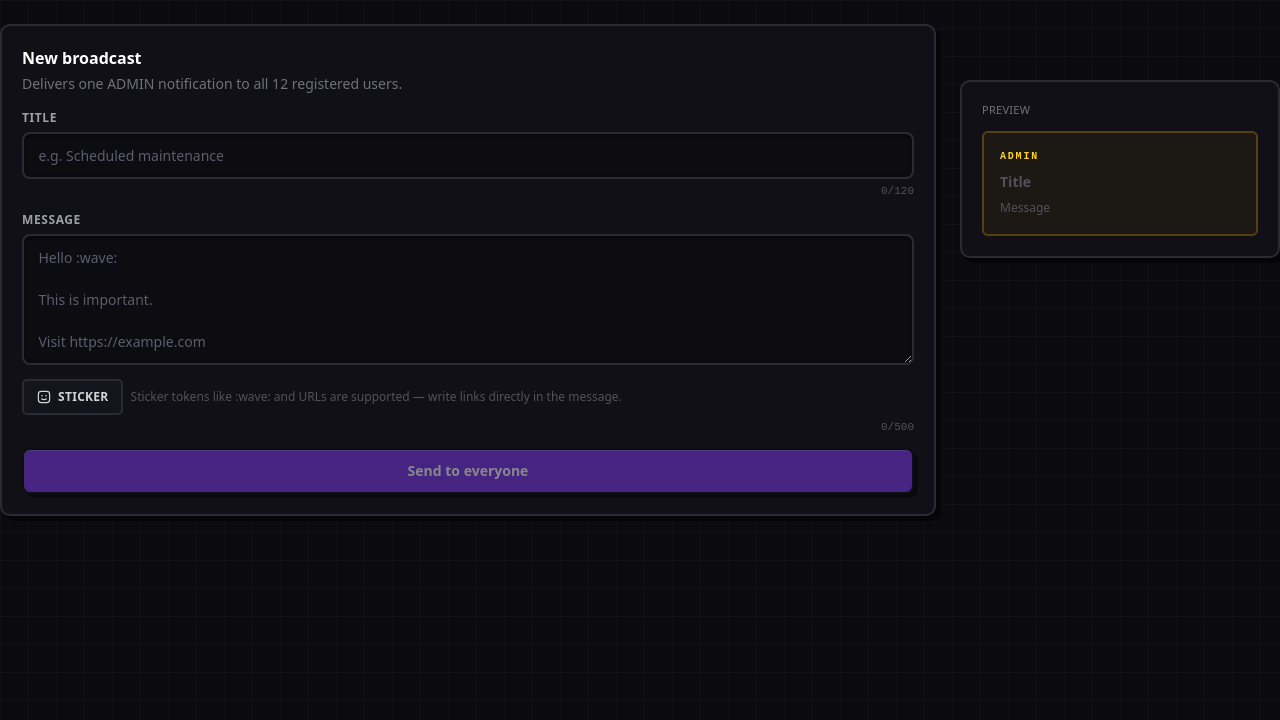
Scenario: Admin Broadcast — Sticker picker open/close › 3. closes on outside click
Click the button "Sticker" at (72, 397), box [22, 379, 123, 415]
(page scrolled)
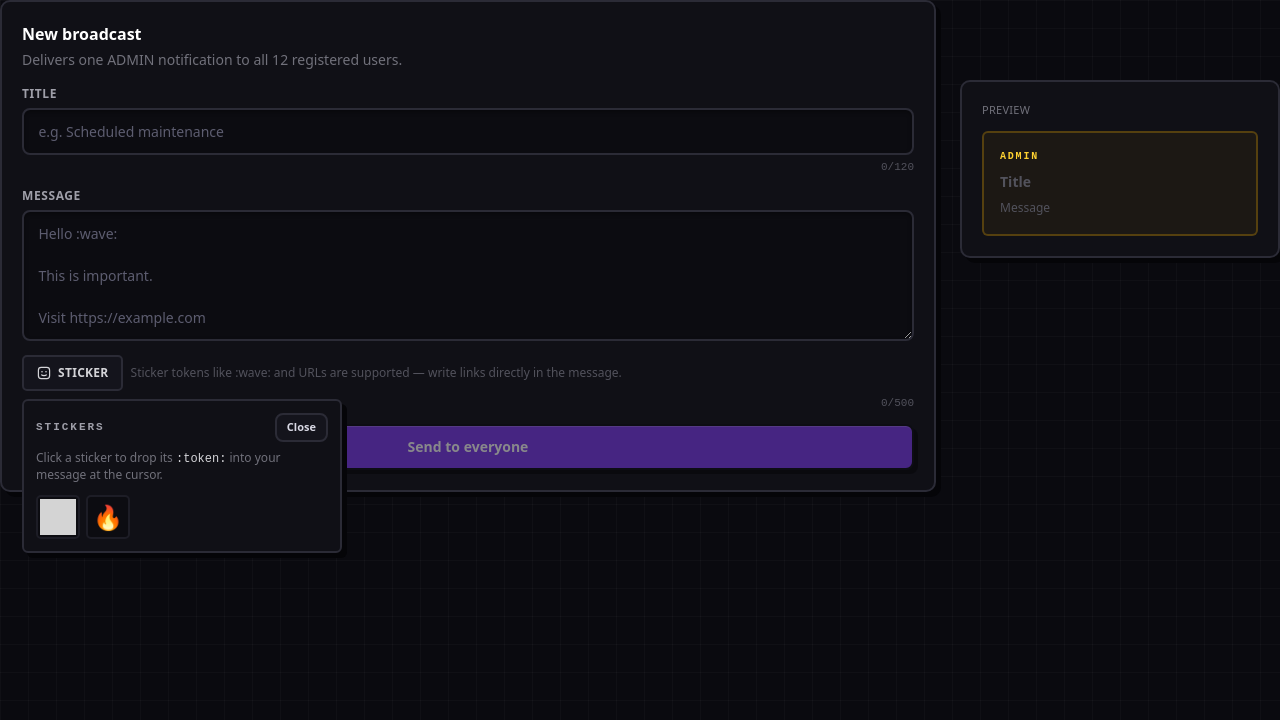
Expected: the dialog with id "broadcast-sticker-picker" is shown, [22, 399, 342, 553]
Press the mouse on the element that starts with "New broadcast" at (640, 360), box [0, 0, 1279, 719]
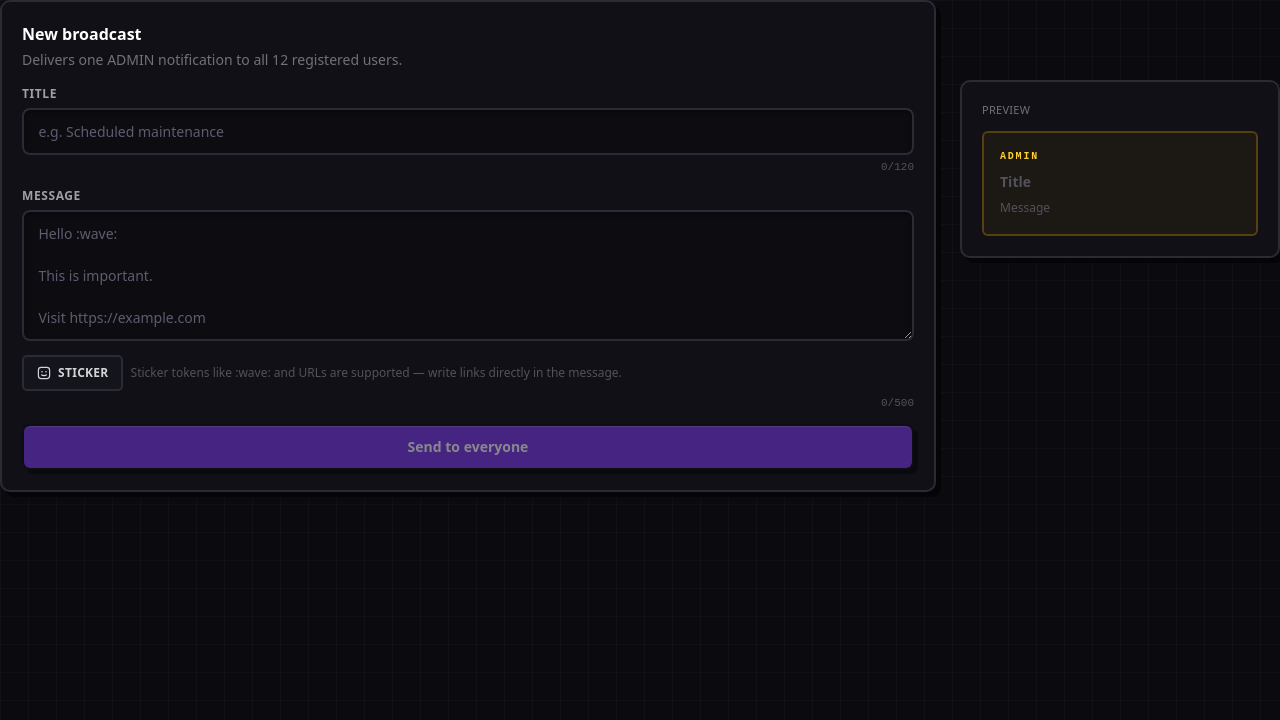
Expected: the dialog with id "broadcast-sticker-picker" is gone
